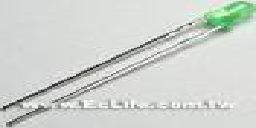LED: (93, 1, 256, 96)
